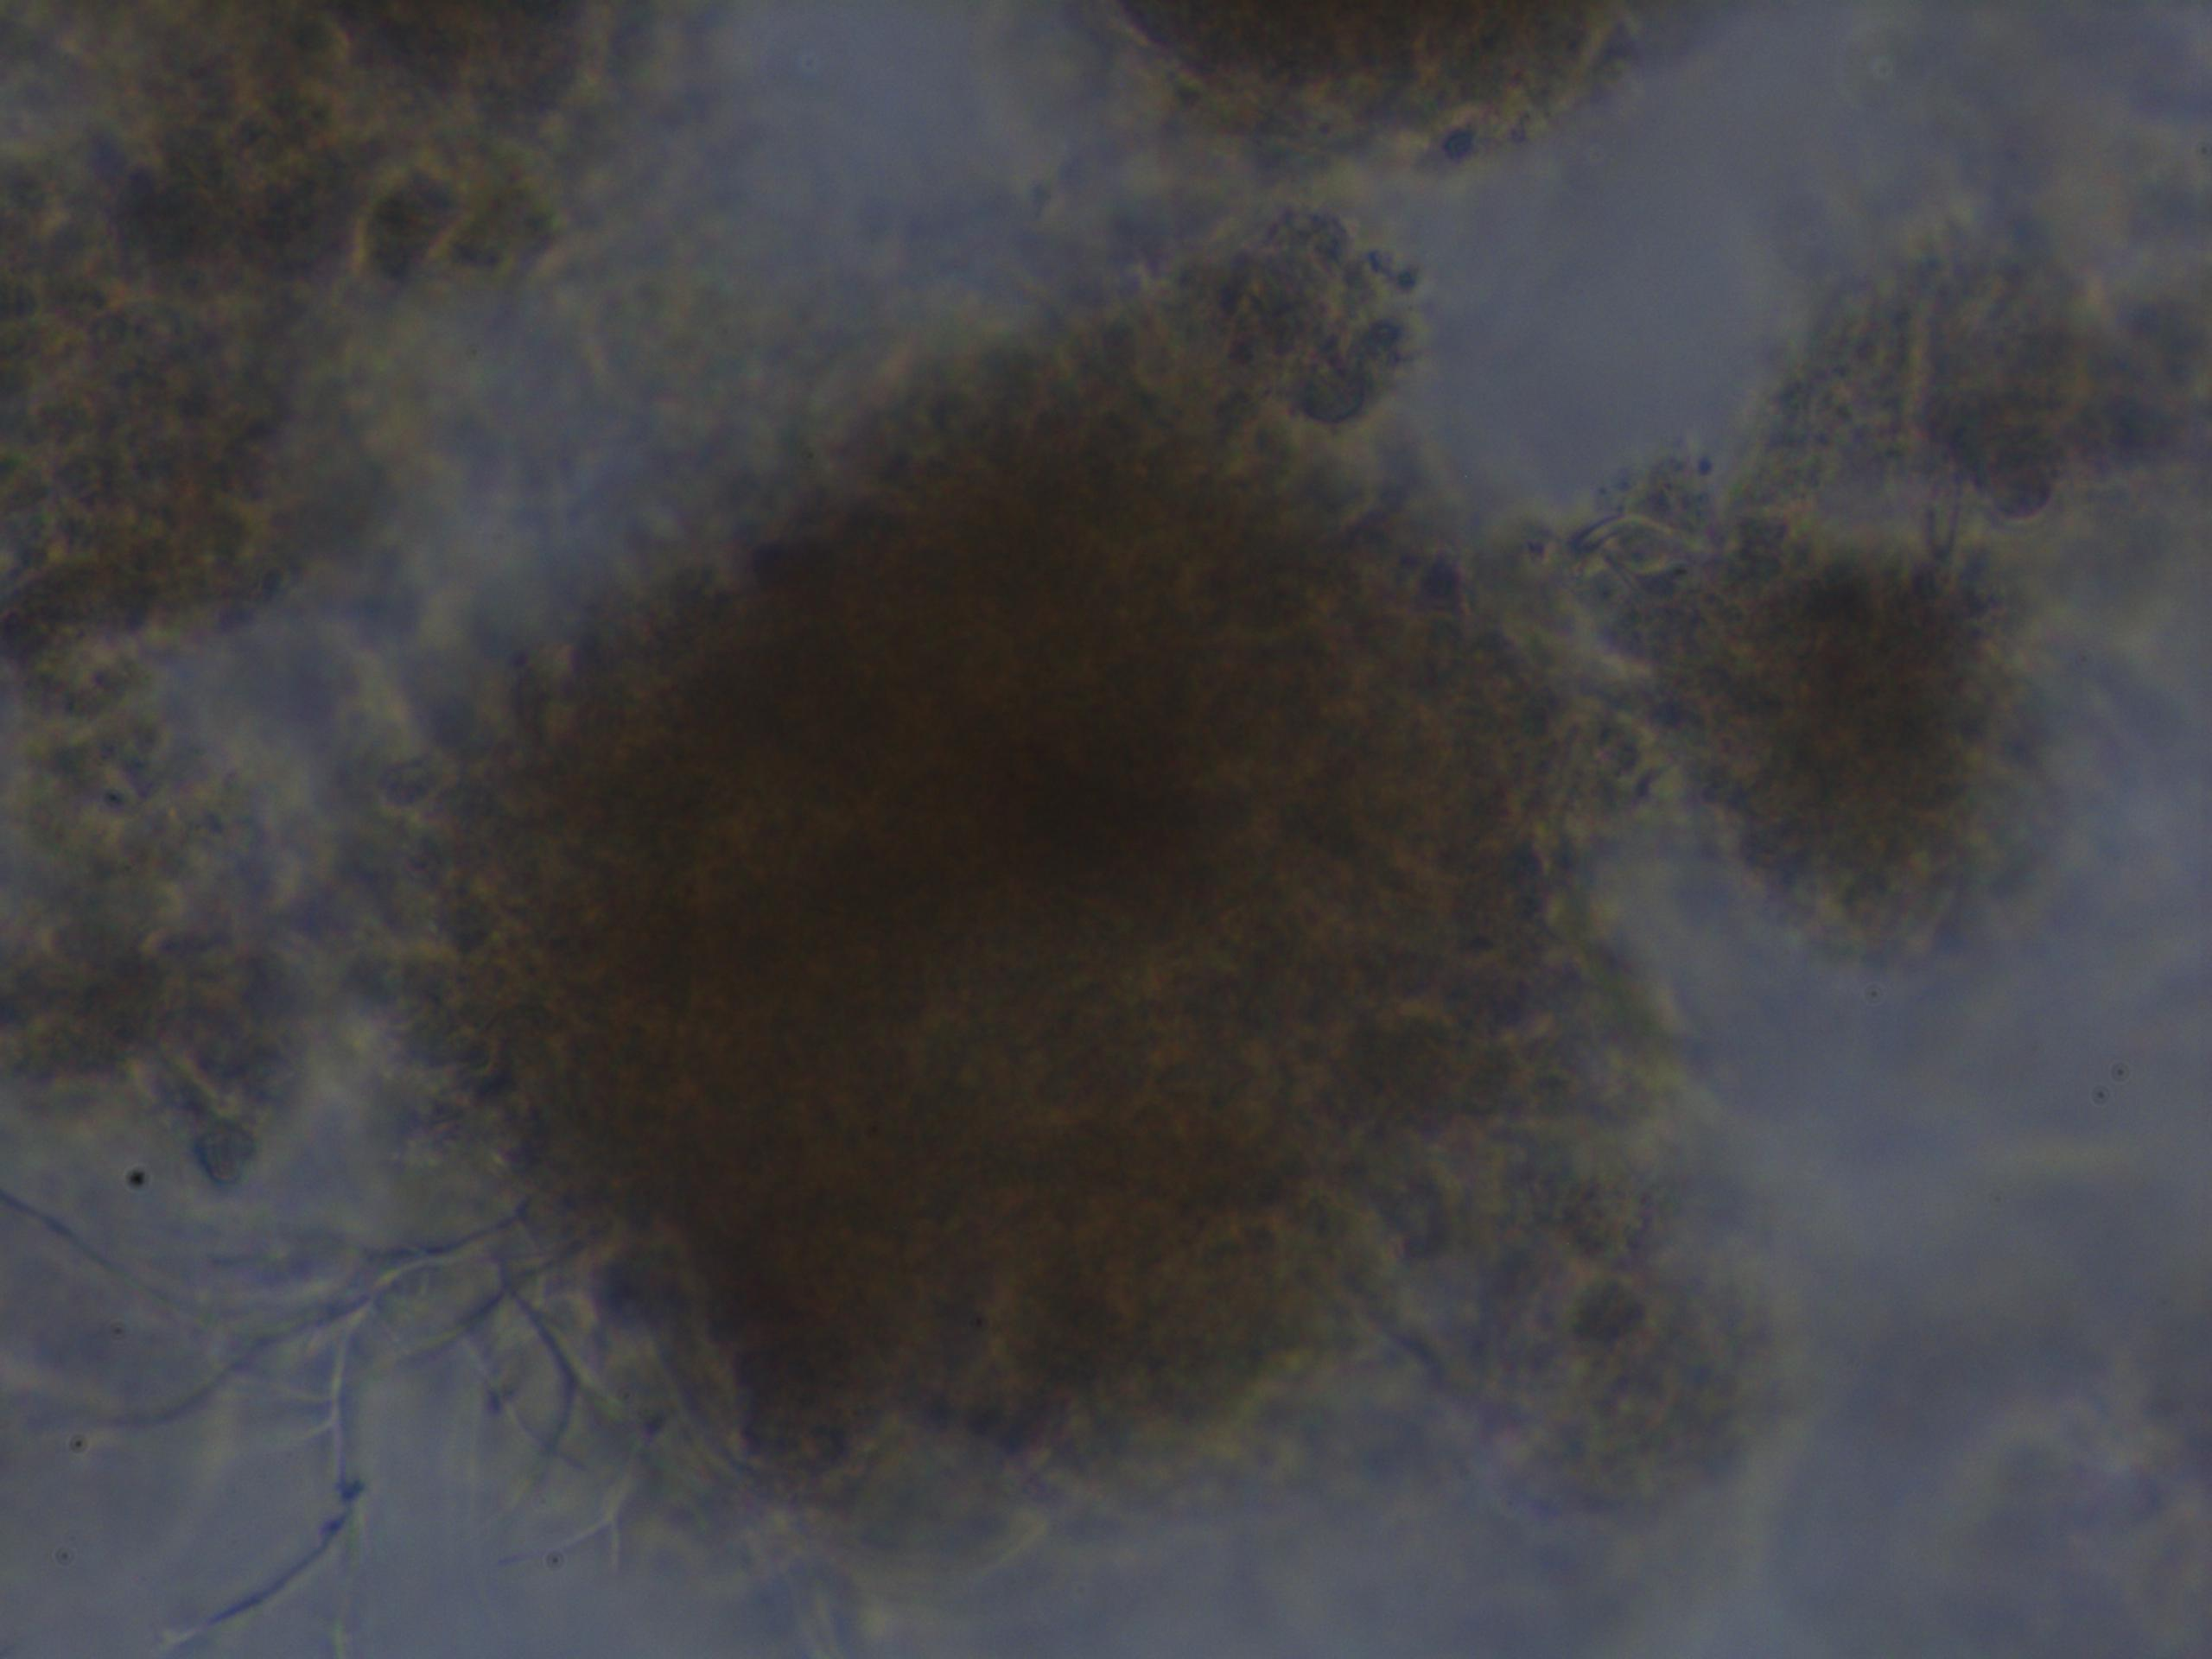filament: (0, 1195, 610, 1650)
spherical_floc: (373, 291, 1599, 1504)
